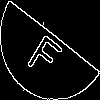F: (25, 25, 69, 80)
